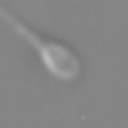normal: (1, 9, 45, 49)
